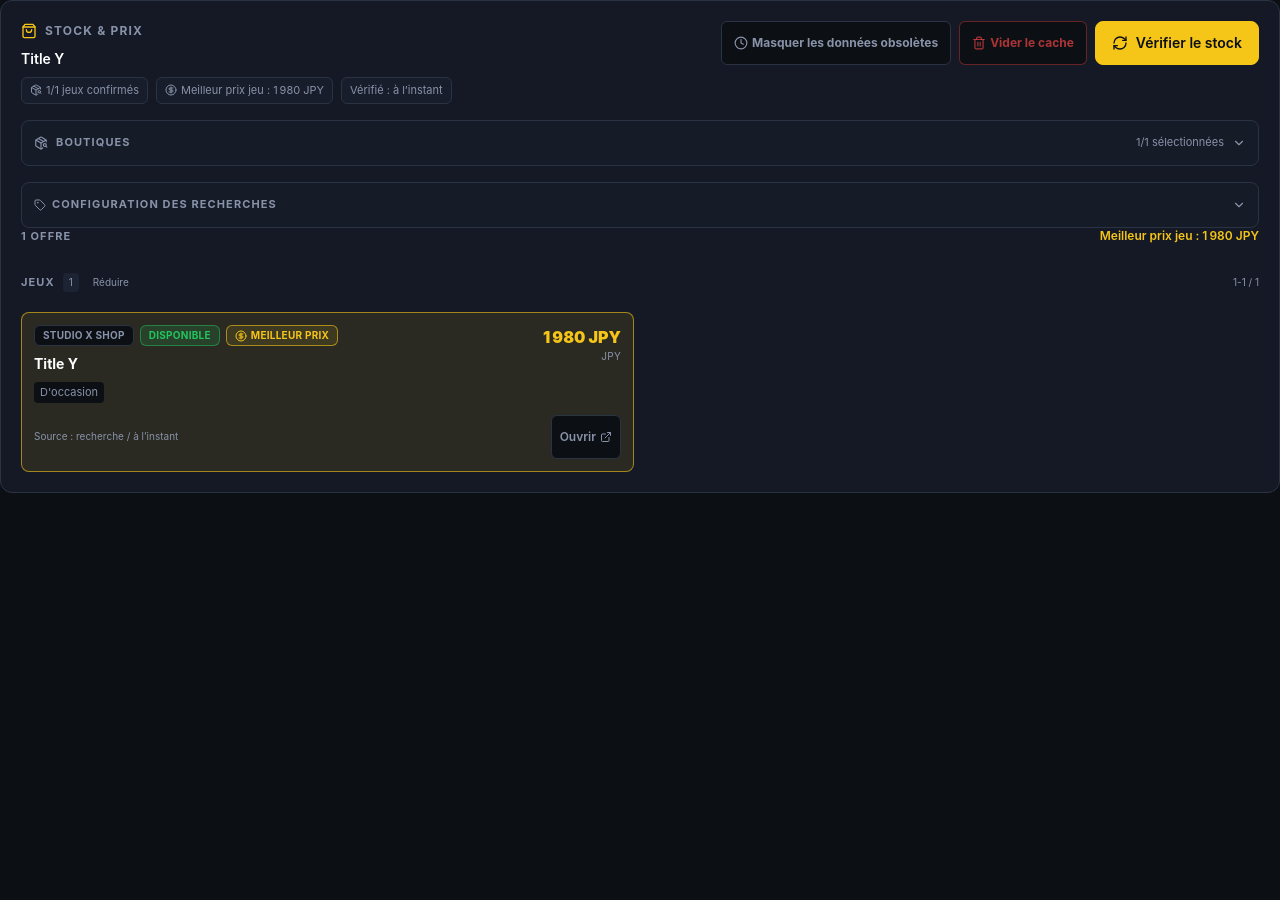
Scenario: StockPanel › adds an alias from a suggestion and shows the success toast
# Open the search-setup disclosure.
Click the heading "Configuration des recherches": point(164, 204) [34,197,1246,212]
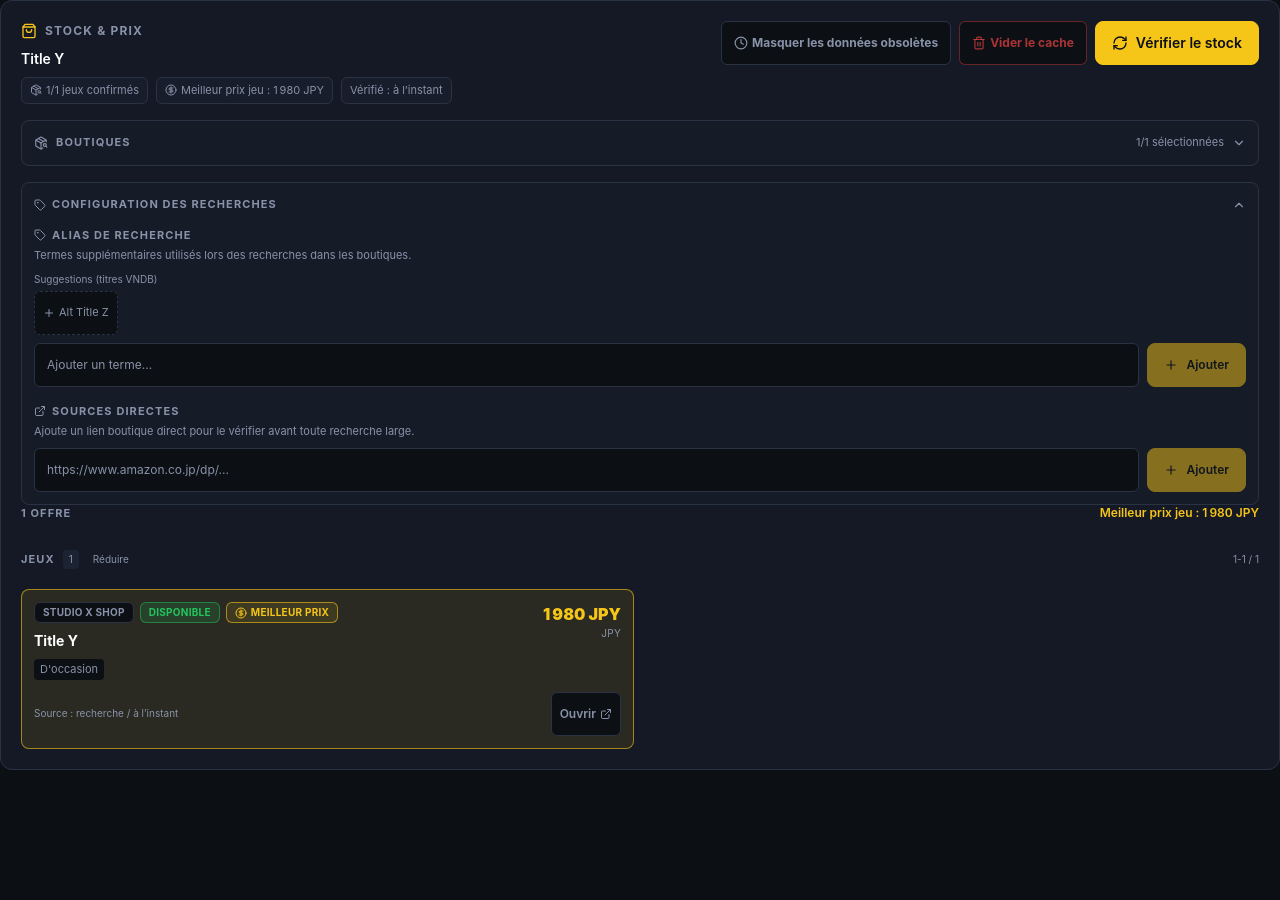
# The altTitle is offered as a suggestion chip.
Click the button "Alt Title Z": point(76, 312) [34,290,118,334]
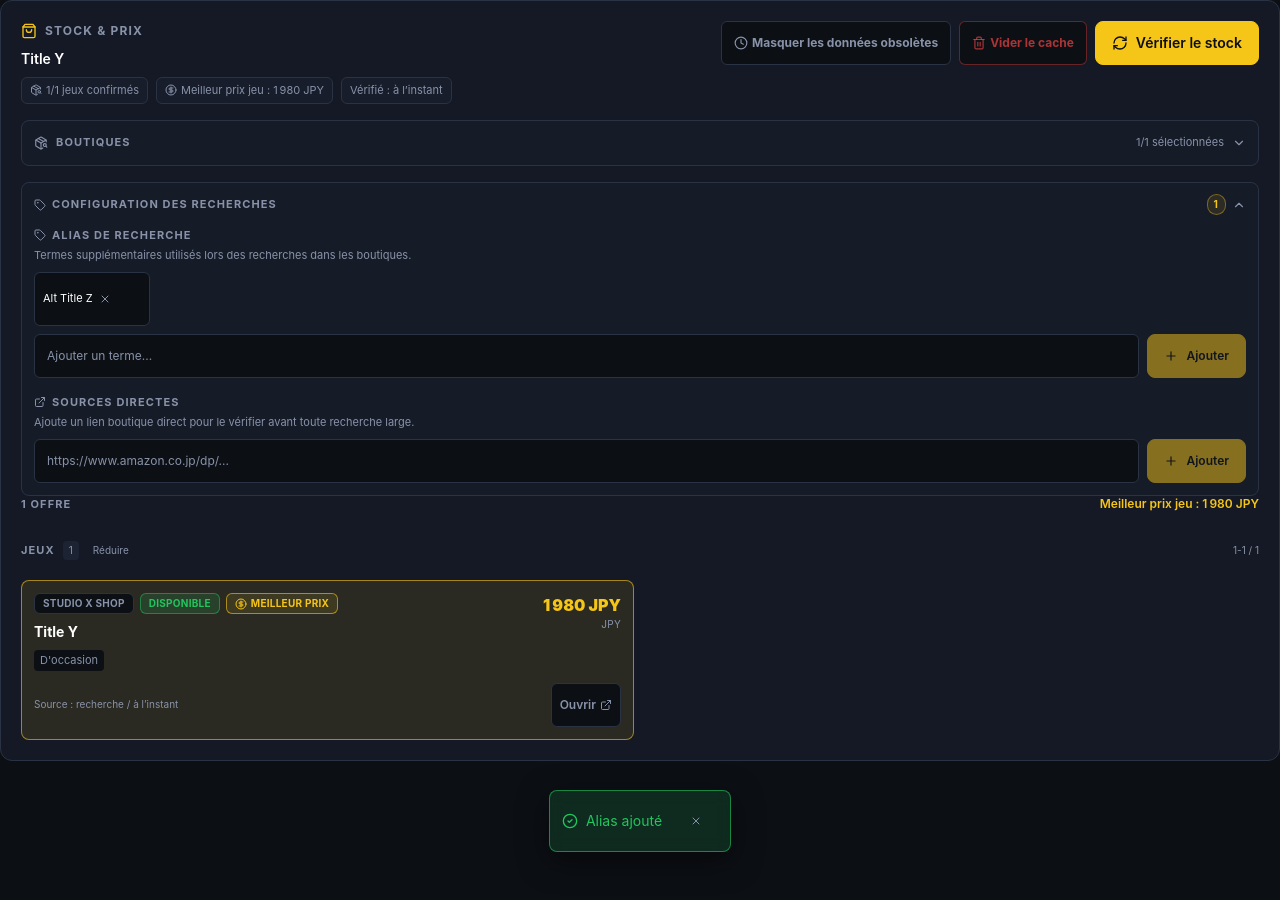
Expected: the text "Alias ajouté" is shown, [586,811,662,831]
